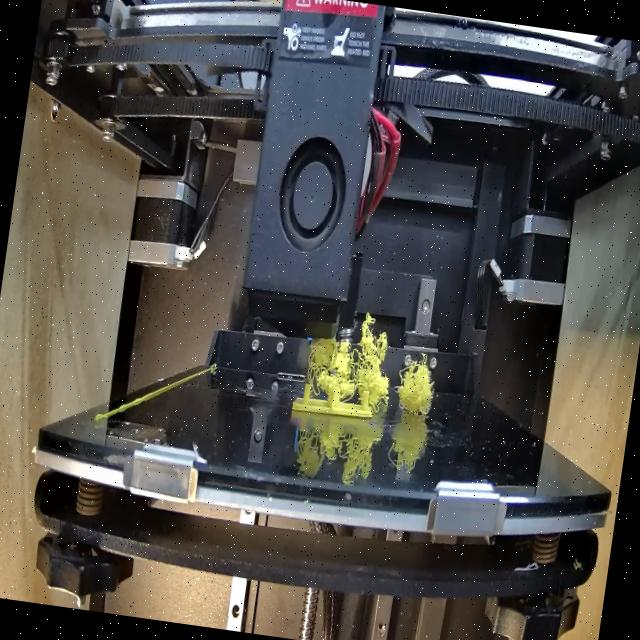spaghetti: (305, 300, 400, 410), (392, 358, 441, 421)
